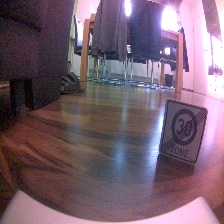dreisiger_zone_ende: (156, 97, 209, 166)
